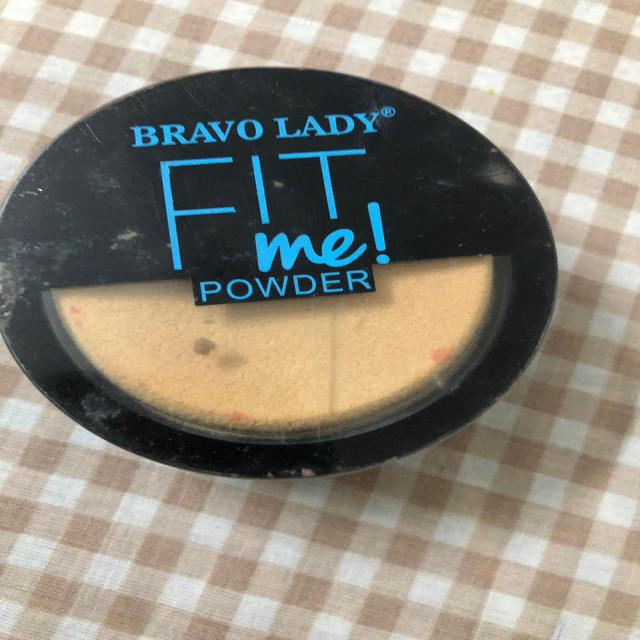powder: (3, 61, 569, 493)
